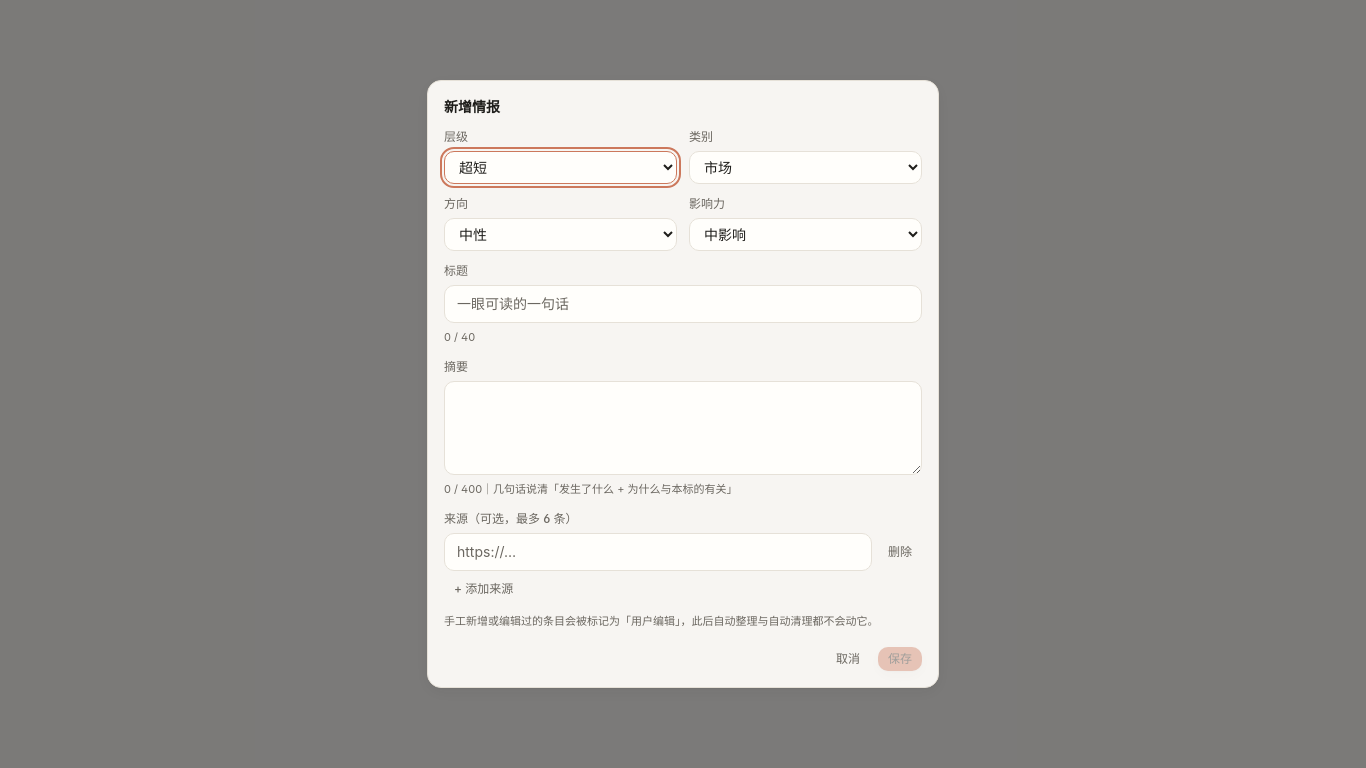
Test: IntelEditor › 来源行可增可删
The image size is (1366, 768).
Expected: the number of fields named "来源链接" is 1, [444,533,872,571]
Step 1. Click the button "+ 添加来源" → [484, 589], box [444,577,523,601]
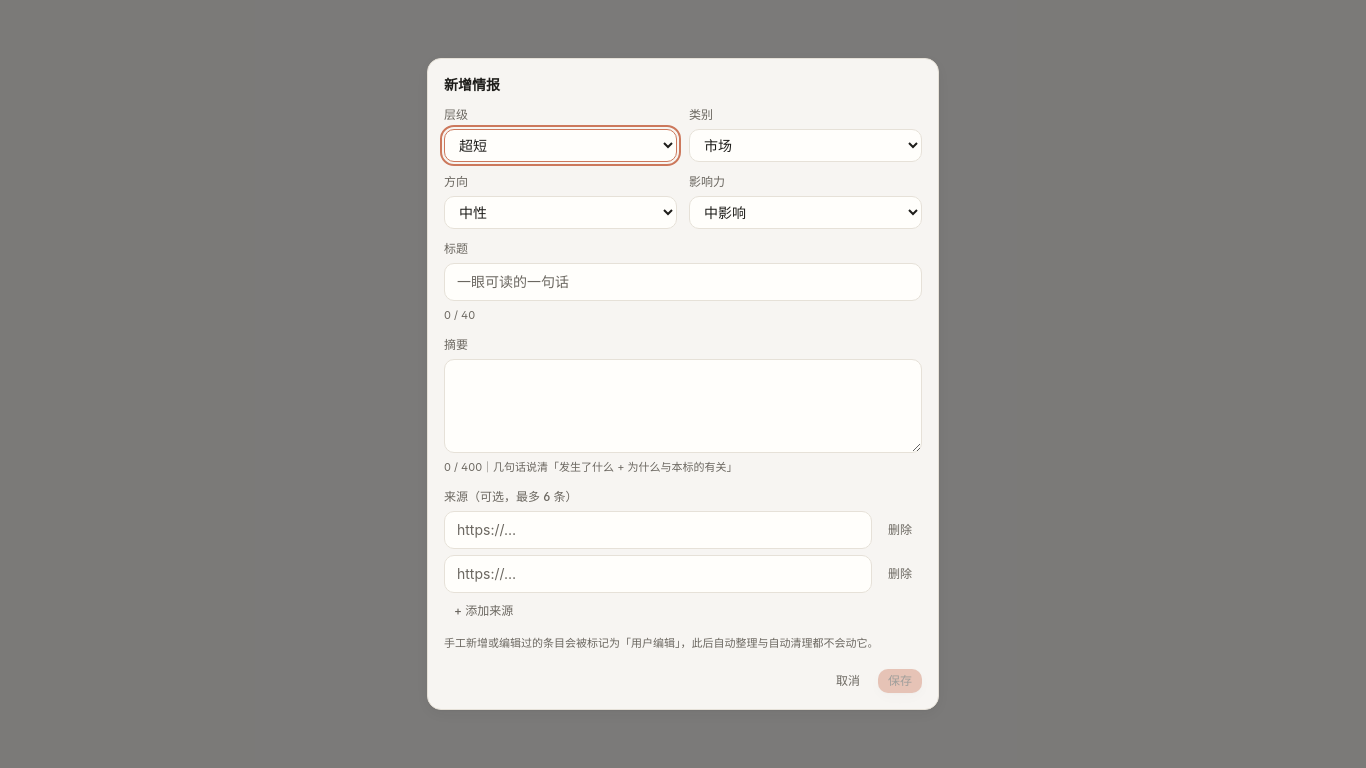
Expected: the number of fields named "来源链接" is 2, [444,511,872,549]; [444,555,872,593]
Step 2. Click the button with aria-label "删除来源" → [900, 530], box [878,518,922,542]
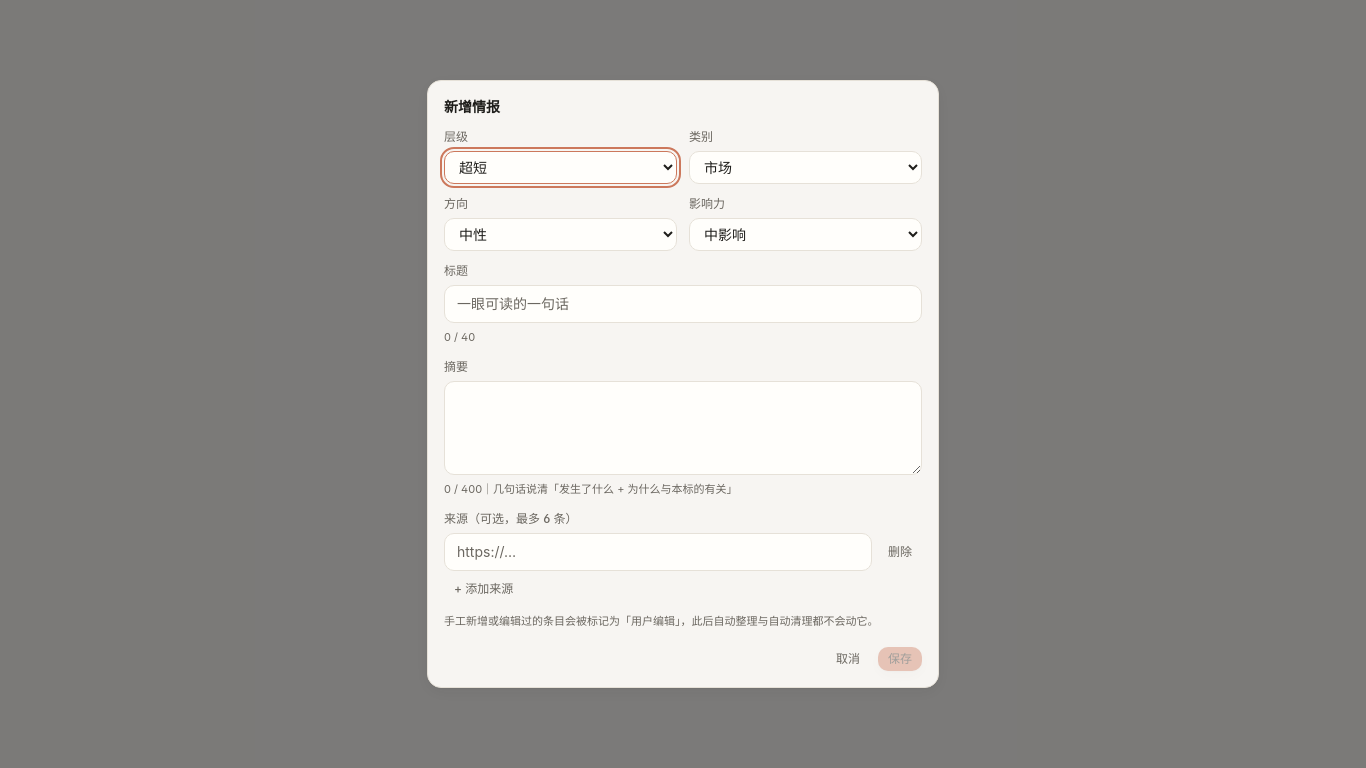
Expected: the number of fields named "来源链接" is 1, [444,533,872,571]
